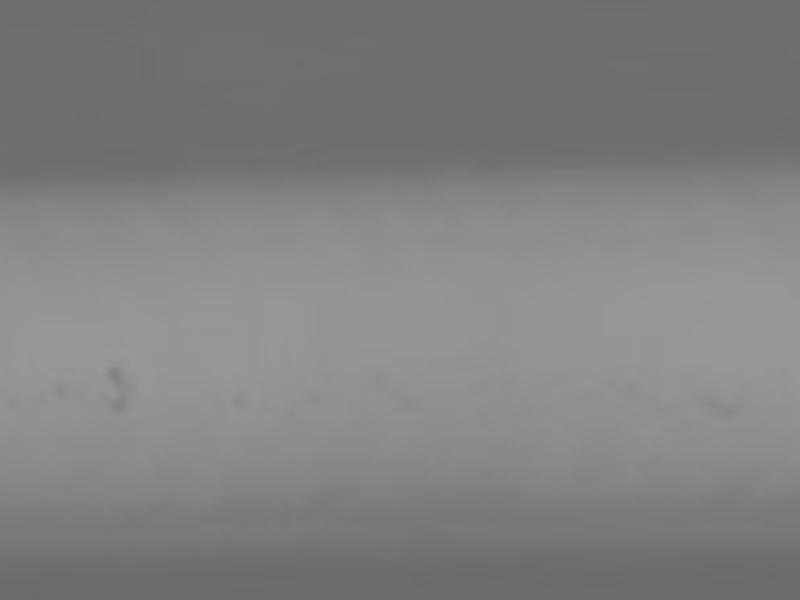defect: (704, 392, 739, 421), (107, 390, 133, 412), (106, 363, 129, 385), (230, 388, 251, 411)
